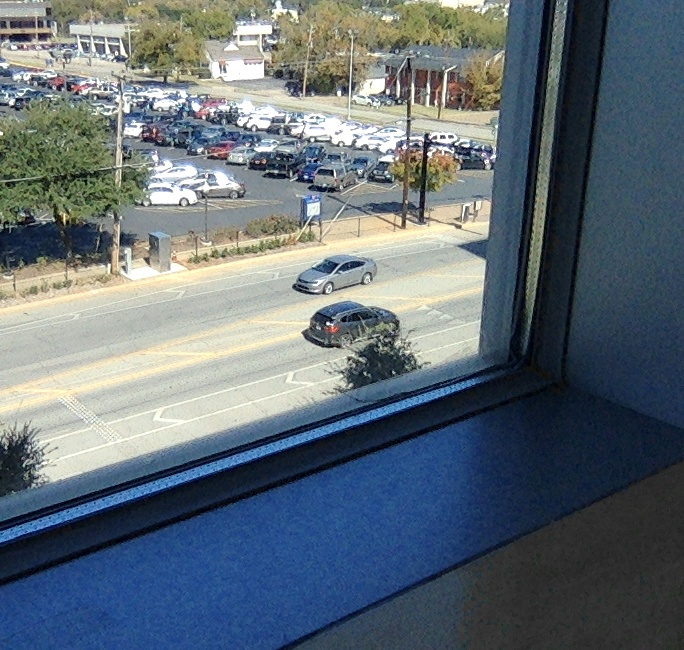car: (300, 300, 384, 350)
